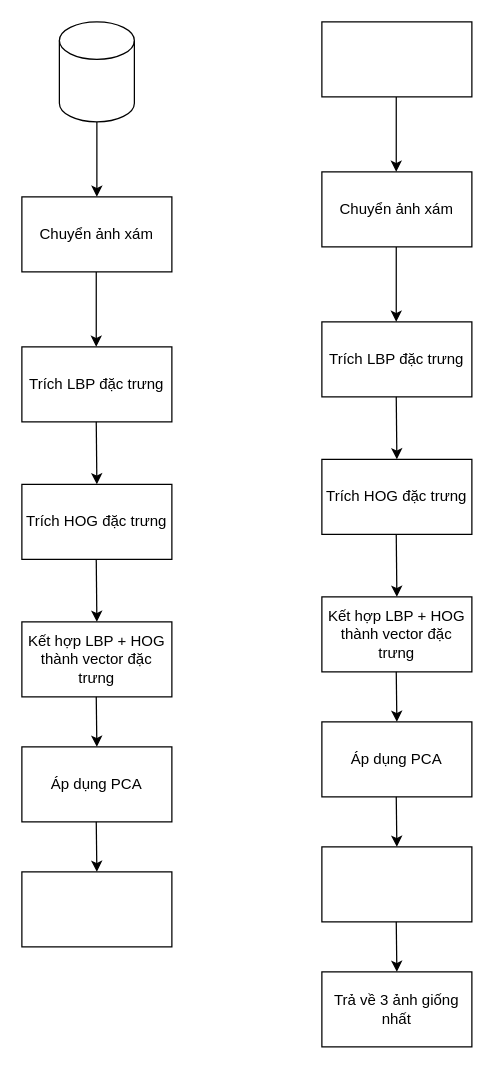
This 494x1069 diagram has some shape labels left out. The shapes that lost their labels are listed below. From the top down, each one's centre as x and y in pixels, then its label:
At pixel 396 59: "Input".
At pixel 396 884: "Tìm kiếm ANN trong cơ sở dữ liệu (Cosine Similarity Top-3)".
At pixel 96 909: "Lưu vào cơ sở dữ liệu (ANN index)".
